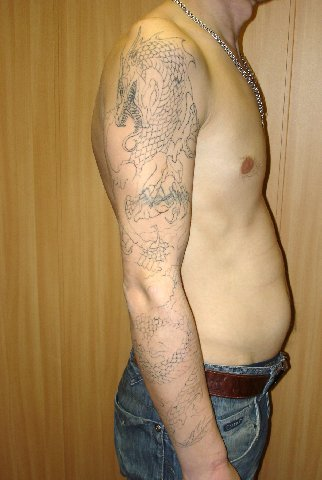tatu6_drakon: (105, 22, 225, 457)
